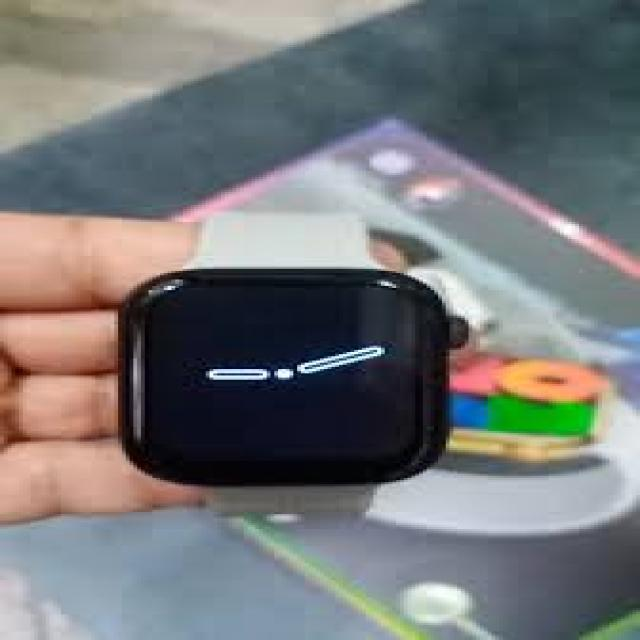watch: (108, 268, 476, 490)
